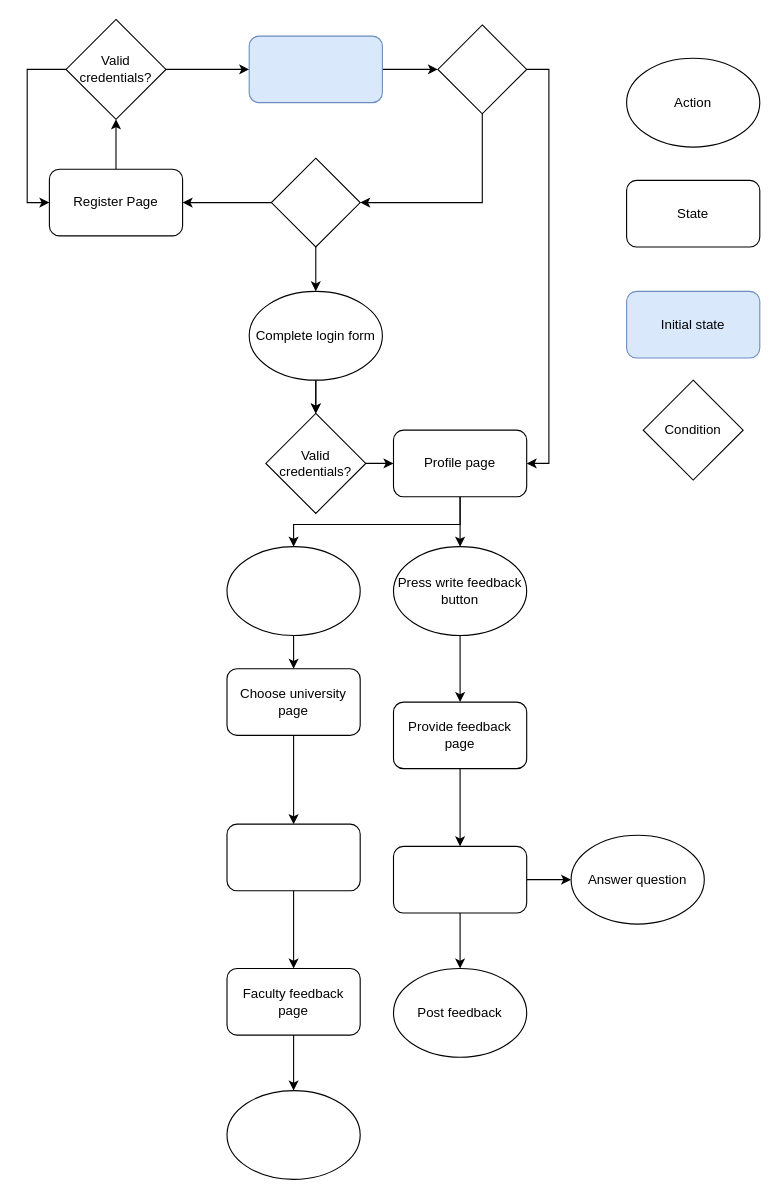
This 779x1199 diagram has some shape labels left out. The centre of each missing label's shape, as x and y in pixels:
"Choose faculty page" goes at point (293, 857).
"Logged in?" goes at point (482, 69).
"Login Page" goes at point (315, 69).
"Press read feedback button" goes at point (293, 590).
"Read feedback" goes at point (293, 1134).
"Registered?" goes at point (315, 202).
"Write feedback page" goes at point (459, 879).
